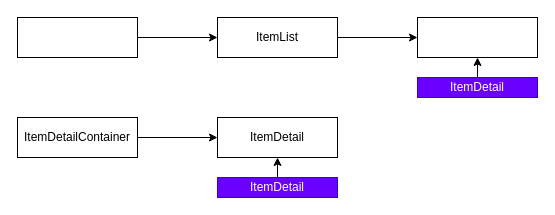
This 555x215 diagram has some shape labels left out. The shapes that lost their labels are listed below. From the top down, each one's box as (x1, y1, x2, y2) in pixels, then its label:
(16, 16, 138, 58): ItemListContainer
(416, 16, 538, 58): Item
